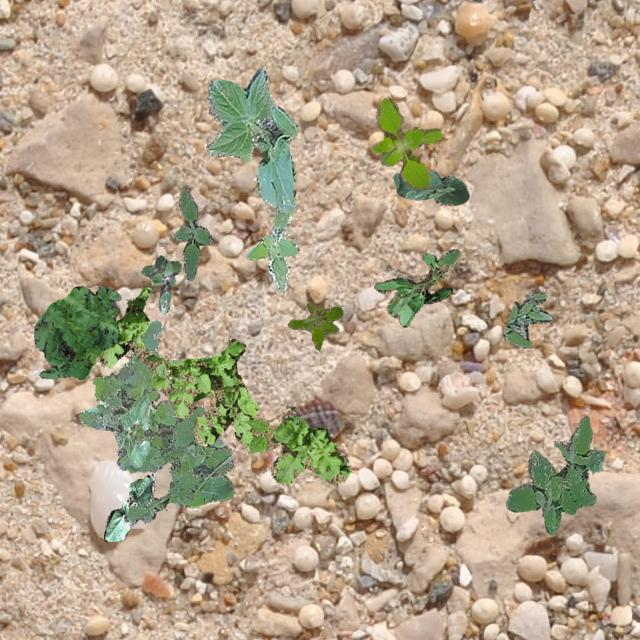crop: (206, 68, 296, 212), (102, 474, 154, 540), (392, 168, 468, 204), (118, 392, 148, 466)
weed: (98, 286, 350, 484), (78, 318, 234, 526), (504, 414, 604, 534), (34, 284, 120, 378), (372, 248, 458, 326), (370, 95, 440, 188), (245, 208, 298, 290), (172, 186, 212, 278), (502, 290, 550, 346), (286, 302, 342, 349), (140, 255, 180, 312)
